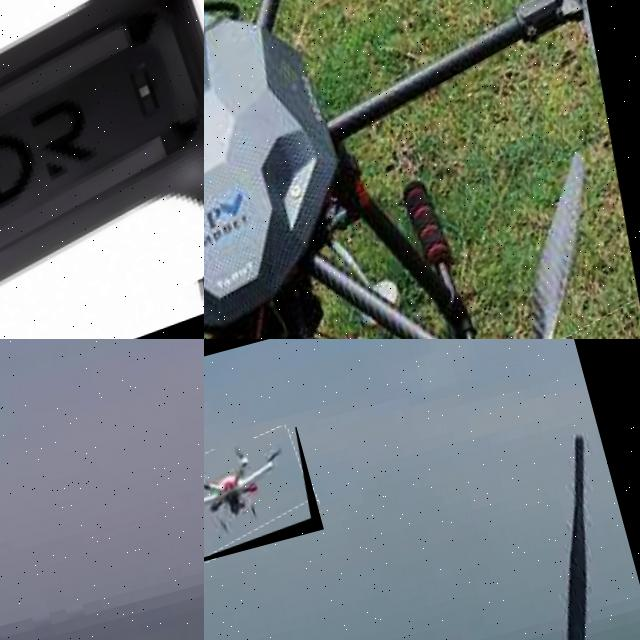drone: (204, 0, 640, 339), (0, 0, 204, 339), (204, 426, 323, 569)
